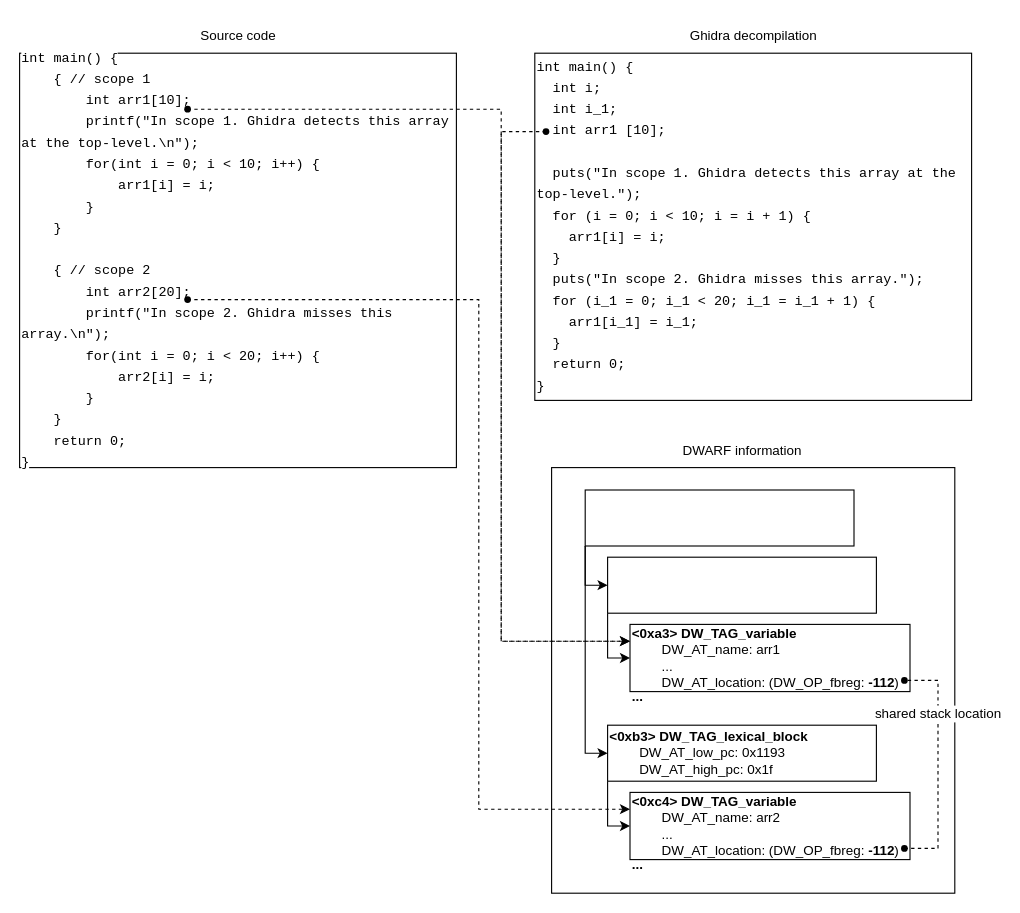
This 1020x913 diagram has some shape labels left out. Here are the shapes that lost their labels. From the top down, the centre of each, then its label:
At [719,517]: "<0x6c> DW_TAG_subprogram DW_AT_name: main ...".
At [741,584]: "<0x8e> DW_TAG_lexical_block DW_AT_low_pc: 0x1184 DW_AT_high_pc: 0x2e".
